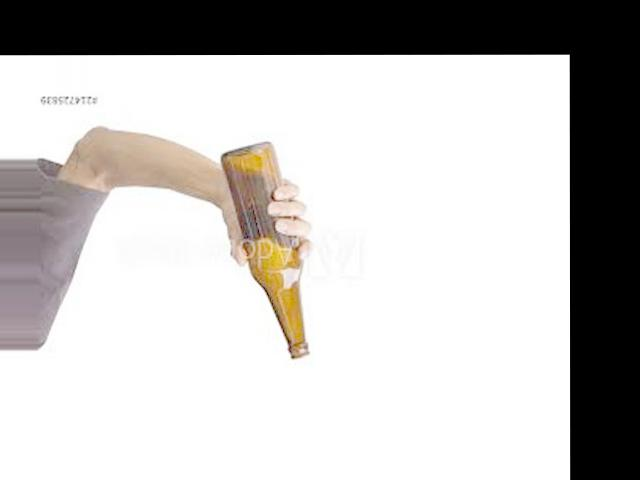beer: (220, 141, 310, 359)
